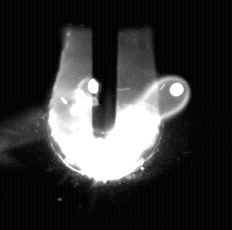arame: (92, 0, 117, 138)
poca: (49, 0, 163, 230)
